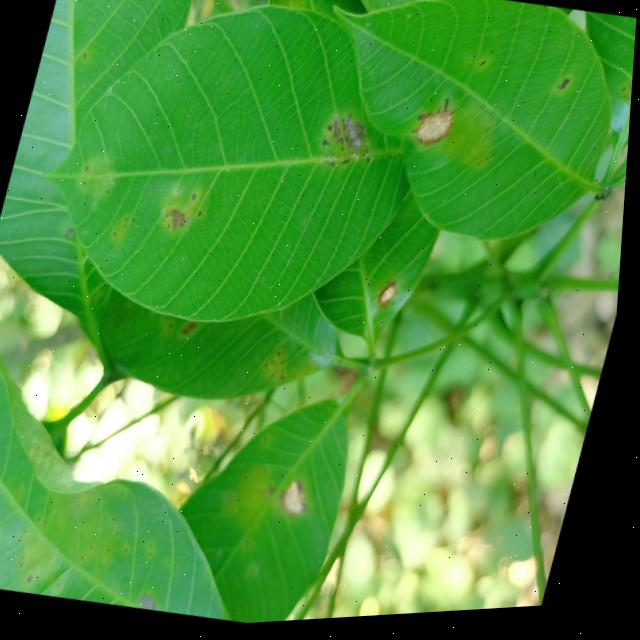Colletotrichum: (557, 84, 570, 99), (192, 195, 200, 205), (323, 143, 332, 151), (327, 130, 334, 137), (479, 66, 486, 73), (199, 213, 205, 220), (86, 166, 91, 174), (82, 54, 87, 61), (367, 162, 373, 167), (84, 182, 89, 187), (115, 234, 119, 238)
Leaf-Blight: (418, 115, 452, 149), (289, 485, 313, 518), (383, 290, 400, 309)
